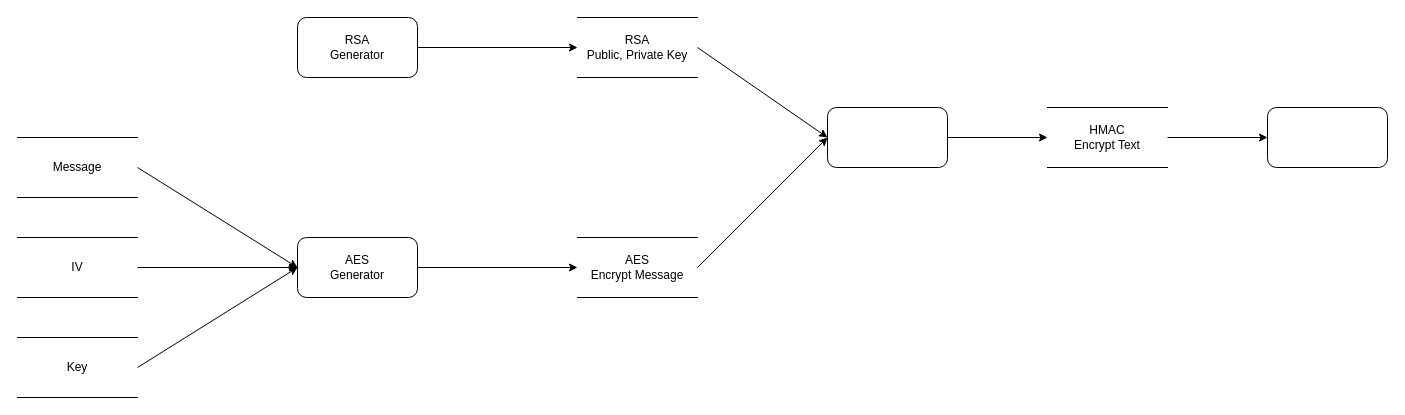
This 1405x415 diagram has some shape labels left out. Here are the shapes that lost their labels. From the top down, the centre of each, then its label:
(x=887, y=137): HMAC Generator
(x=1327, y=137): HMAC Validator
